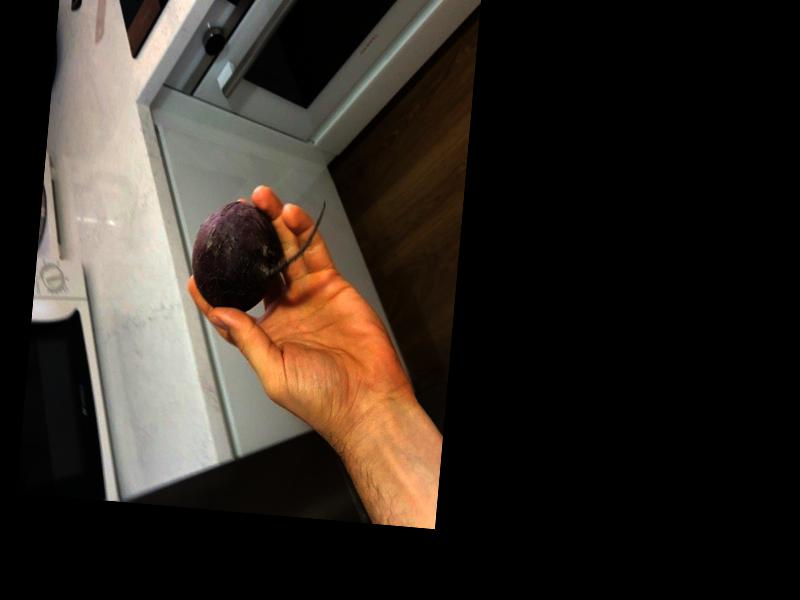Beet: (187, 187, 327, 317)
